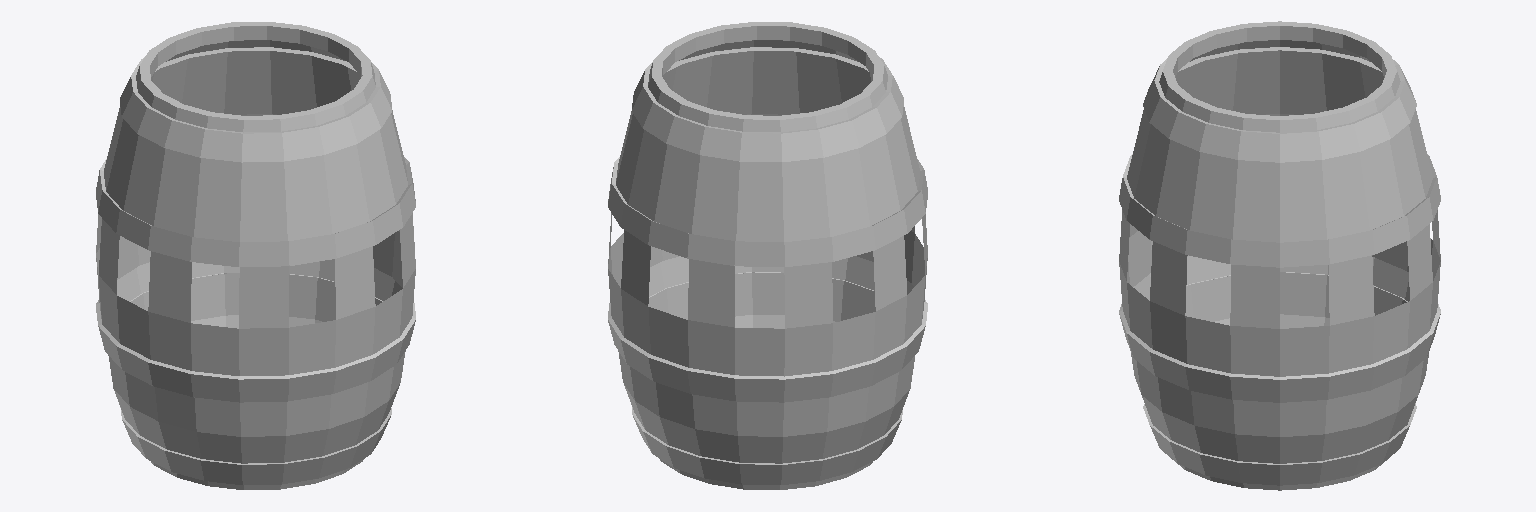
The model's file is barrel2_test.obj.
3 views of the same model, side by side, from view 1: azimuth 30°, elevation 25°; view 2: azimuth 150°, elevation 25°; view 3: azimuth 270°, elevation 25° (orthographic).
Bounding box in the file's own units: 1.71 × 2.17 × 1.71.